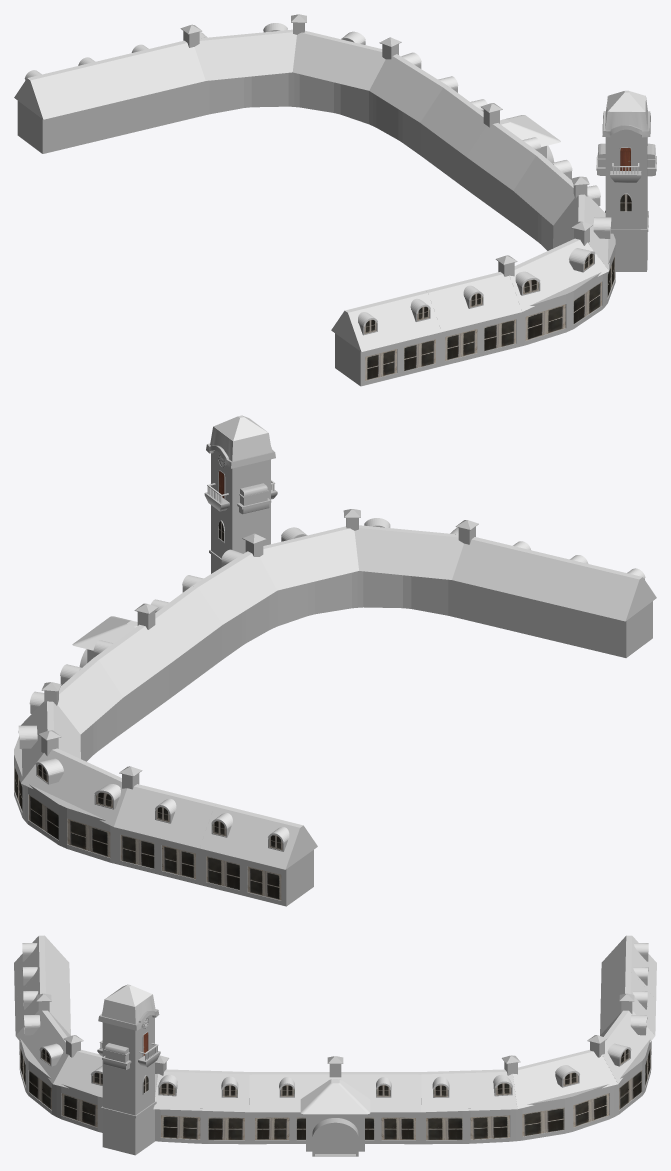
Rendered from Bangunan 2.fbx.
The picture shows the model from 3 angles, top to bottom: view 1: azimuth 30°, elevation 25°; view 2: azimuth 150°, elevation 25°; view 3: azimuth 270°, elevation 25°; orthographic projection. The views are drawn at different scales.
Parts seen in each view (by area): view 1: Cube.005, Cube.001, Cube.002, Cube.013, Cube.016, Cube.010, Cube.004, Cube.006; view 2: Cube.005, Cube.001, Cube.013, Cube.002, Cube.016, Cube.010, Cube.004, Cube.006; view 3: Cube.005, Cube.001, Cube.002, Cube.013, Cube.004, Cube.010, Cube.016, Cube.012, Cube, Cube.006.
Boxes of the visible parts, x1,y1,x2,y2 form: Cube.005: [14, 29, 609, 351]; Cube.001: [17, 72, 615, 386]; Cube.002: [605, 129, 648, 271]; Cube.013: [24, 23, 611, 335]; Cube.016: [180, 14, 592, 276]; Cube.010: [602, 90, 650, 137]; Cube.004: [500, 115, 560, 146]; Cube.006: [596, 143, 656, 176]; Cube.005: [20, 525, 656, 869]; Cube.001: [14, 571, 652, 906]; Cube.013: [18, 518, 645, 851]; Cube.002: [209, 450, 270, 573]; Cube.016: [38, 509, 478, 789]; Cube.010: [206, 415, 275, 468]; Cube.004: [72, 616, 137, 650]; Cube.006: [237, 483, 271, 514]; Cube.005: [14, 935, 656, 1112]; Cube.001: [19, 1039, 651, 1144]; Cube.002: [101, 1015, 156, 1155]; Cube.013: [22, 943, 648, 1097]; Cube.004: [300, 1079, 370, 1114]; Cube.010: [98, 984, 159, 1030]; Cube.016: [36, 993, 634, 1077]; Cube.012: [312, 1118, 358, 1156]; Cube: [306, 1114, 364, 1151]; Cube.006: [102, 1043, 155, 1069].
Size of the model in its own units: 1955 by 898 by 3296.
